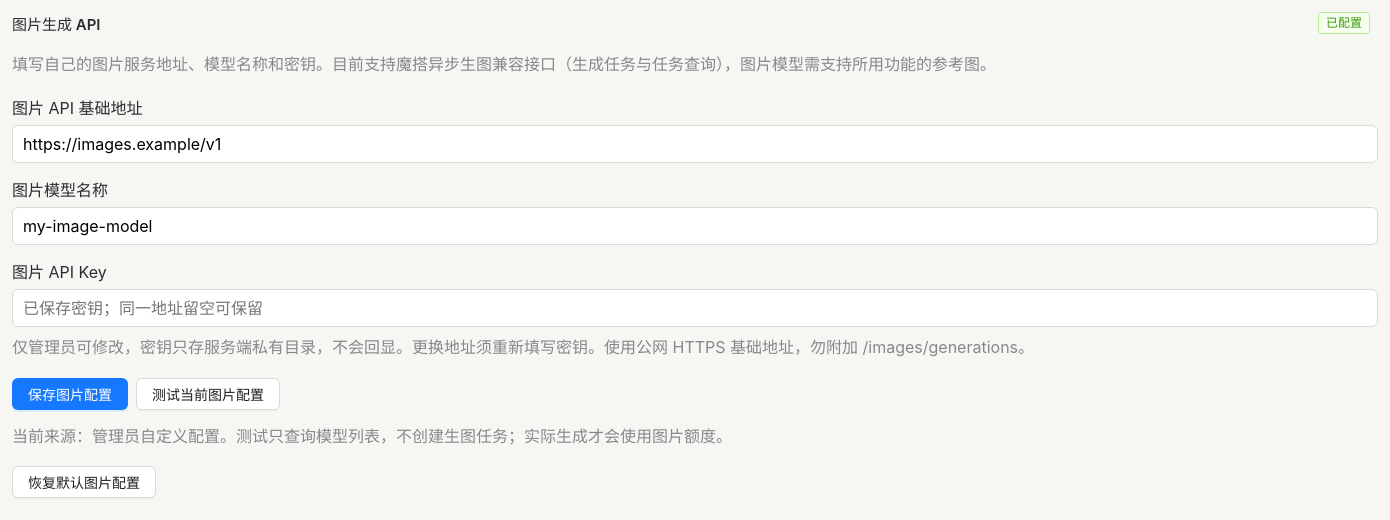
恢复默认图片配置使用云端支持的POST，不涉及文本配置
Expected: the field showing "https://images.example/v1" is shown, [12, 125, 1378, 163]
What coordinates should you click on to do the following:
click the button "恢复默认图片配置"
I would click on:
 (84, 482)
Its box is [12, 466, 156, 498].
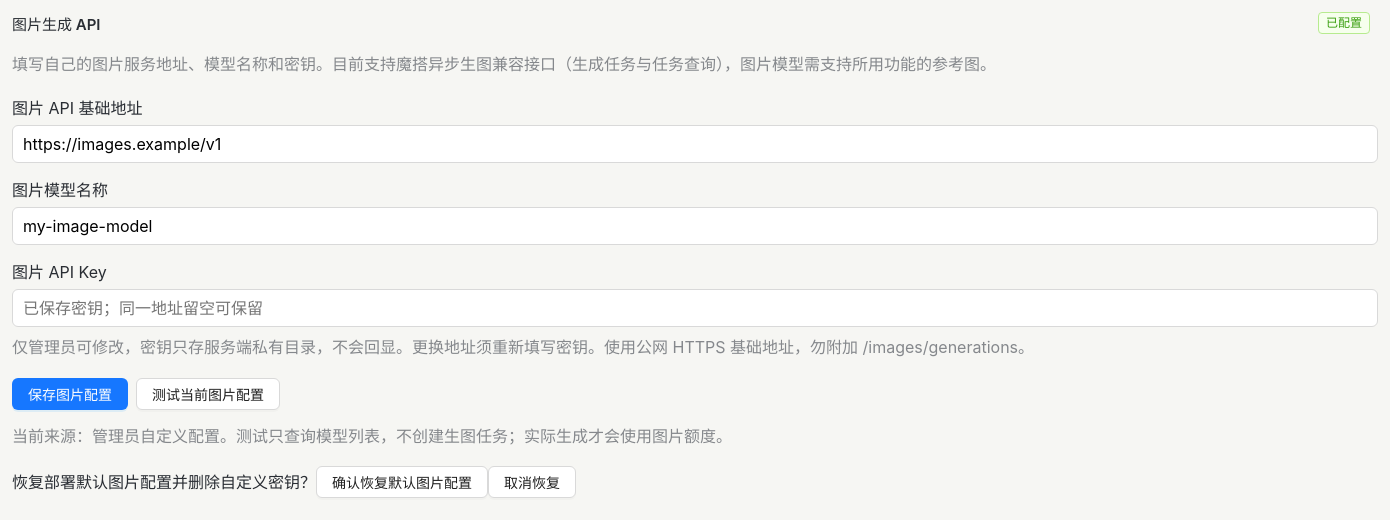
What coordinates should you click on to do the following:
click the button "确认恢复默认图片配置"
I would click on:
 (402, 482)
Its box is [316, 466, 488, 498].
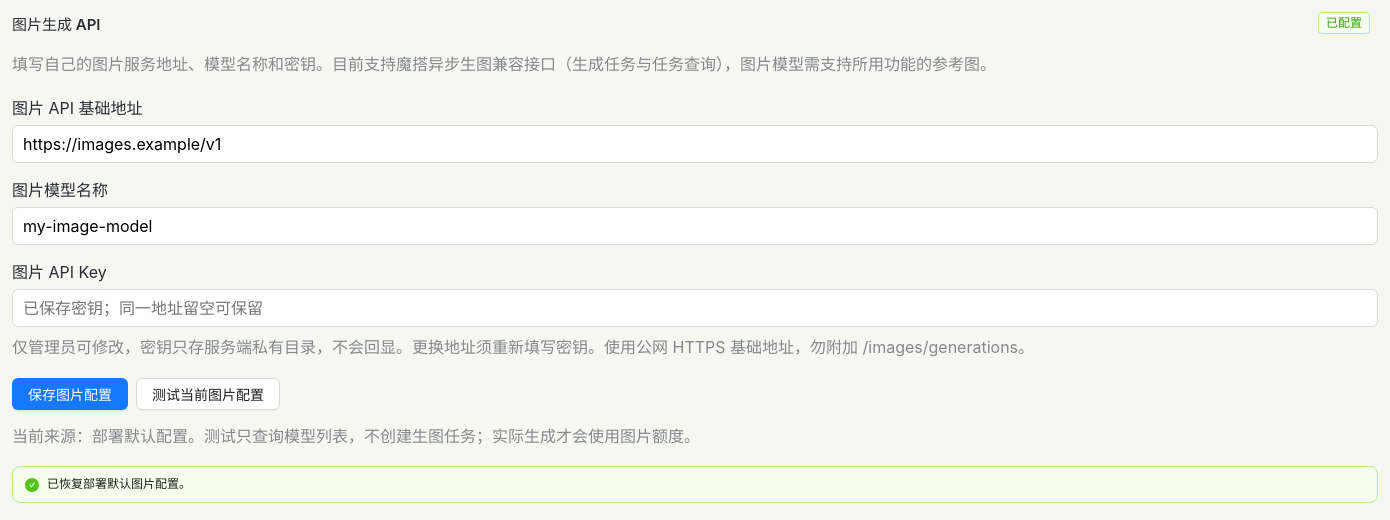
Now the text "已恢复部署默认图片配置。" is shown, box [47, 476, 191, 491]
